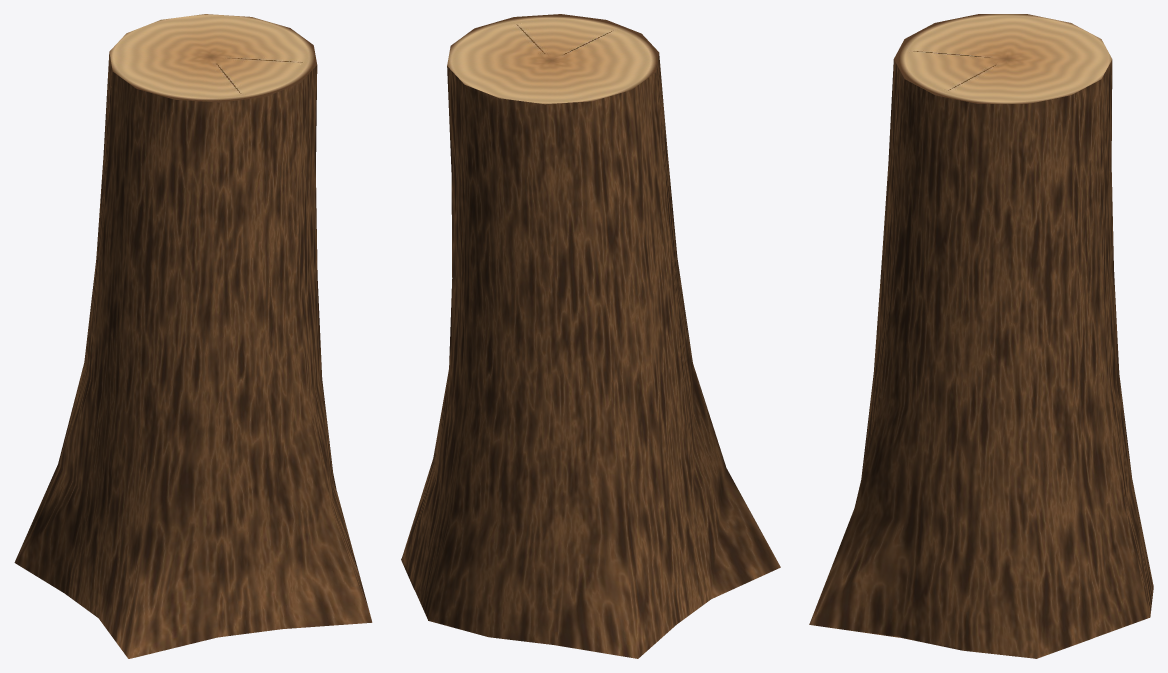
Rendered from tree_trunk.glb.
3 views of the same model, side by side, from view 1: azimuth 30°, elevation 25°; view 2: azimuth 150°, elevation 25°; view 3: azimuth 270°, elevation 25° (orthographic). The views are drawn at different scales.
Parts seen in each view (by area): view 1: TreeTrunkBark; view 2: TreeTrunkBark; view 3: TreeTrunkBark.
Part boxes in pixels (x1=…): TreeTrunkBark: x1=14, y1=14, x2=372, y2=658; TreeTrunkBark: x1=401, y1=14, x2=780, y2=658; TreeTrunkBark: x1=809, y1=14, x2=1153, y2=658.
Bounding box in the file's own units: 1.17 × 2 × 1.17.
Materials: 2 (2 with a texture image).
